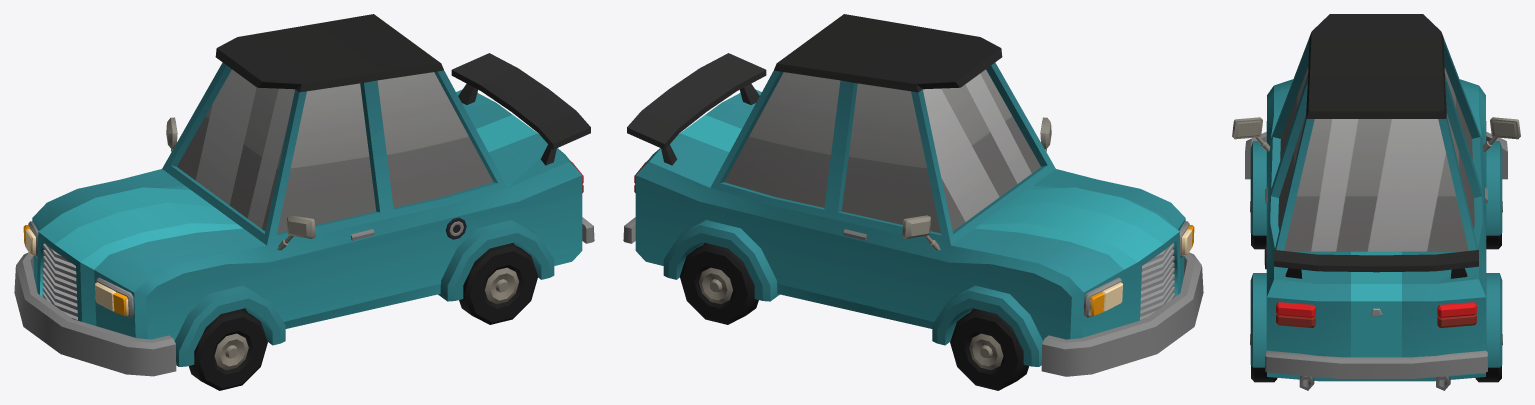
The model's file is Car_2_J.gltf.
The picture shows the model from 3 angles, left to right: view 1: azimuth 30°, elevation 25°; view 2: azimuth 150°, elevation 25°; view 3: azimuth 270°, elevation 25°; orthographic projection.
Parts seen in each view (by area): view 1: Car_2_J, RL, FL; view 2: Car_2_J, RR, FR; view 3: Car_2_J, RL, RR.
Boxes of the visible parts, box(x1,y1,x2,y2) form: Car_2_J: box(14, 14, 594, 376); RL: box(459, 243, 538, 324); FL: box(188, 309, 267, 390); Car_2_J: box(623, 14, 1203, 376); RR: box(679, 243, 758, 324); FR: box(950, 309, 1029, 390); Car_2_J: box(1232, 14, 1520, 390); RL: box(1250, 334, 1277, 382); RR: box(1475, 334, 1502, 382).
Bounding box in the file's own units: 3.64 × 1.8 × 1.78.
4 materials, 4 textured.
